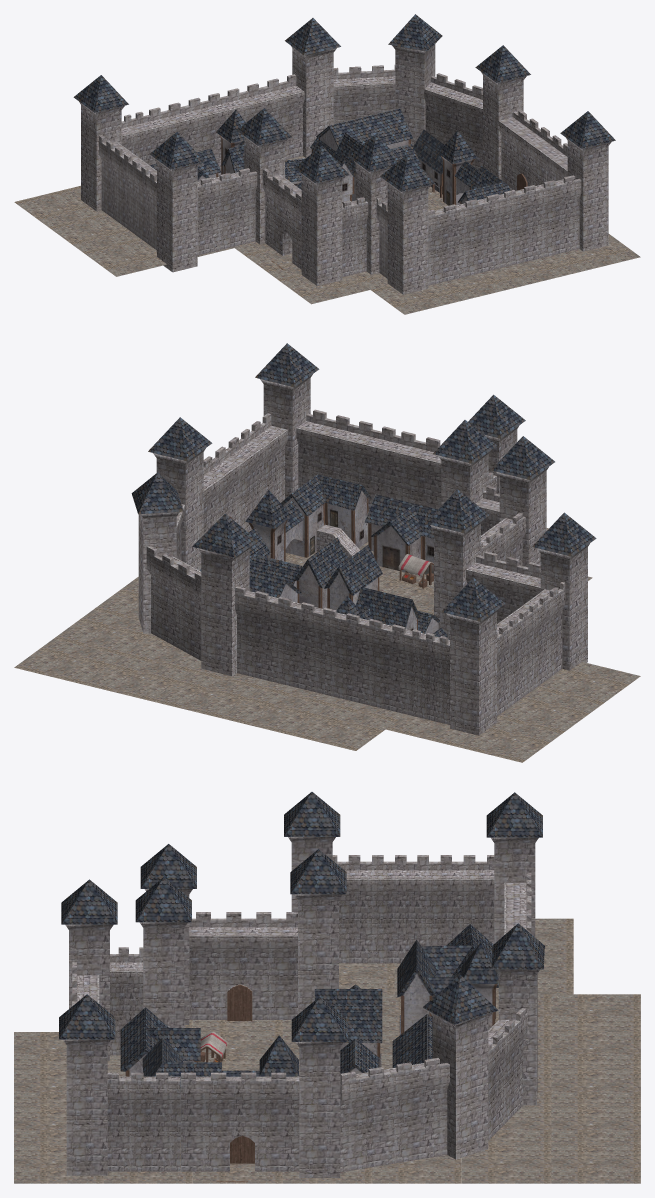
The model's file is town.obj.
The picture shows the model from 3 angles, top to bottom: view 1: azimuth 30°, elevation 25°; view 2: azimuth 150°, elevation 25°; view 3: azimuth 270°, elevation 25°; orthographic projection. The views are drawn at different scales.
Parts seen in each view (by area): view 1: obj1_mat1_0; view 2: obj1_mat1_0; view 3: obj1_mat1_0.
Boxes of the visible parts, <box> form: obj1_mat1_0: <box>14,14,640,314</box>; obj1_mat1_0: <box>14,343,640,762</box>; obj1_mat1_0: <box>14,792,640,1183</box>.
Bounding box in the file's own units: 4.43 × 1.39 × 4.43.
Materials: 1 (1 with a texture image).
